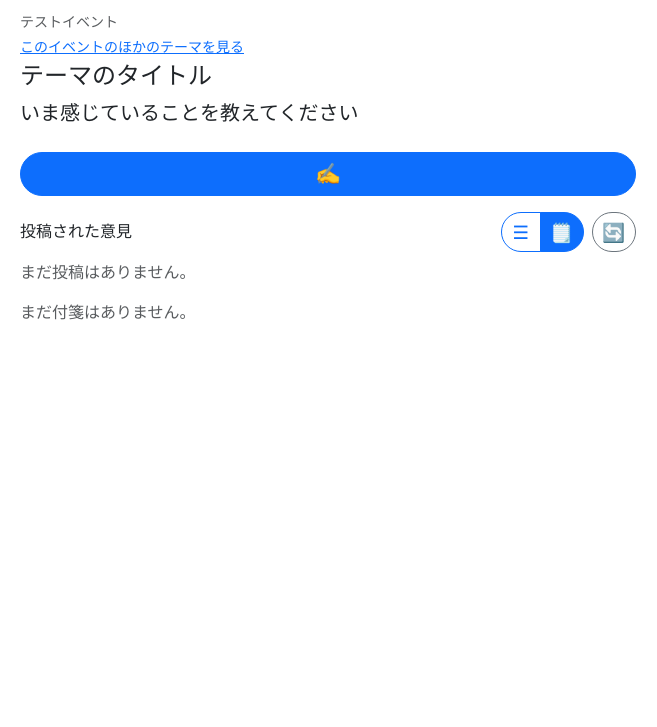
it: 参加者の画面 › 連打しても、投稿は1回だけ送られる
Click the link named "意見を投稿する" at (328, 174), box [20,152,636,196]
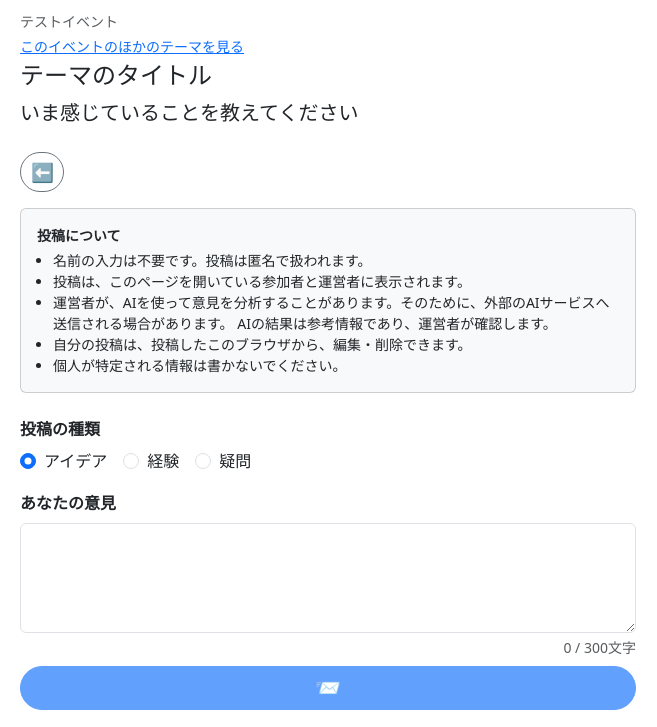
Type "一度だけ" into the text box labelled "あなたの意見" at (328, 578), box [20,523,636,633]
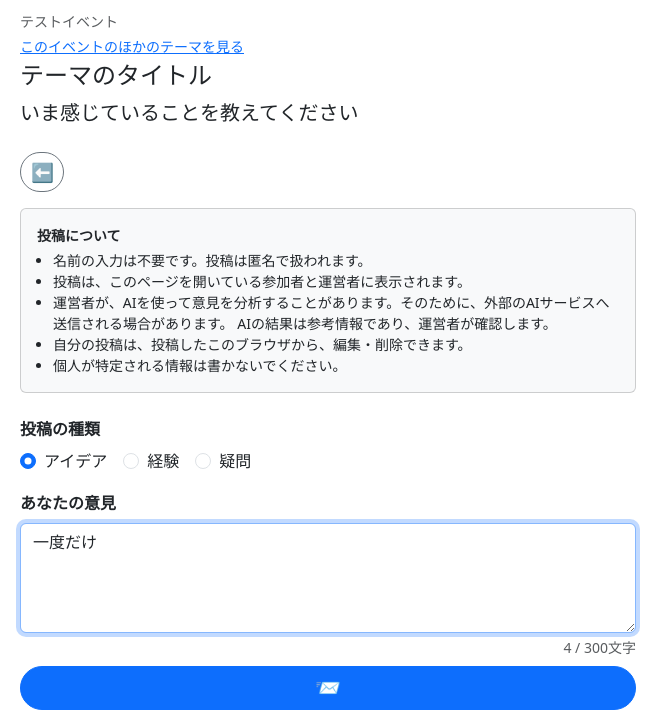
Double-click the button named "投稿する" at (328, 688), box [20,666,636,710]
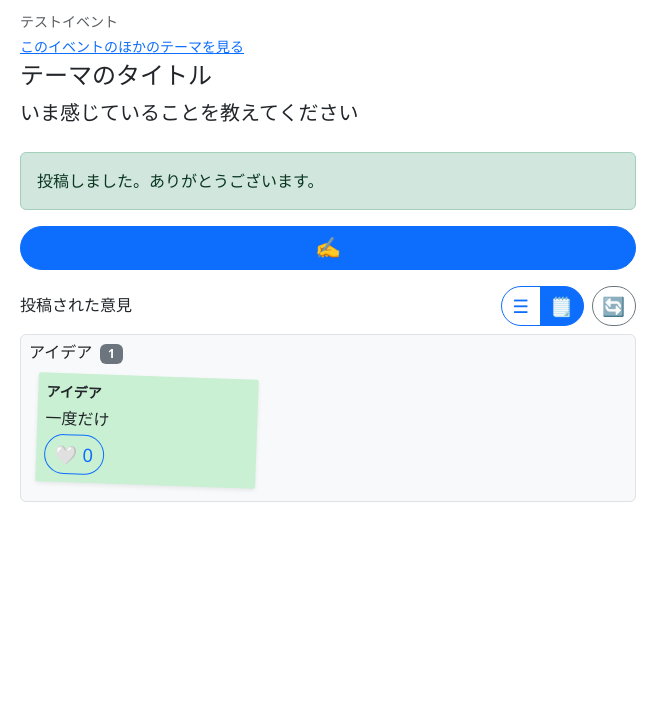
Result: the number of elements with test id "sticky-note" is 1 at [35,372,259,489]
